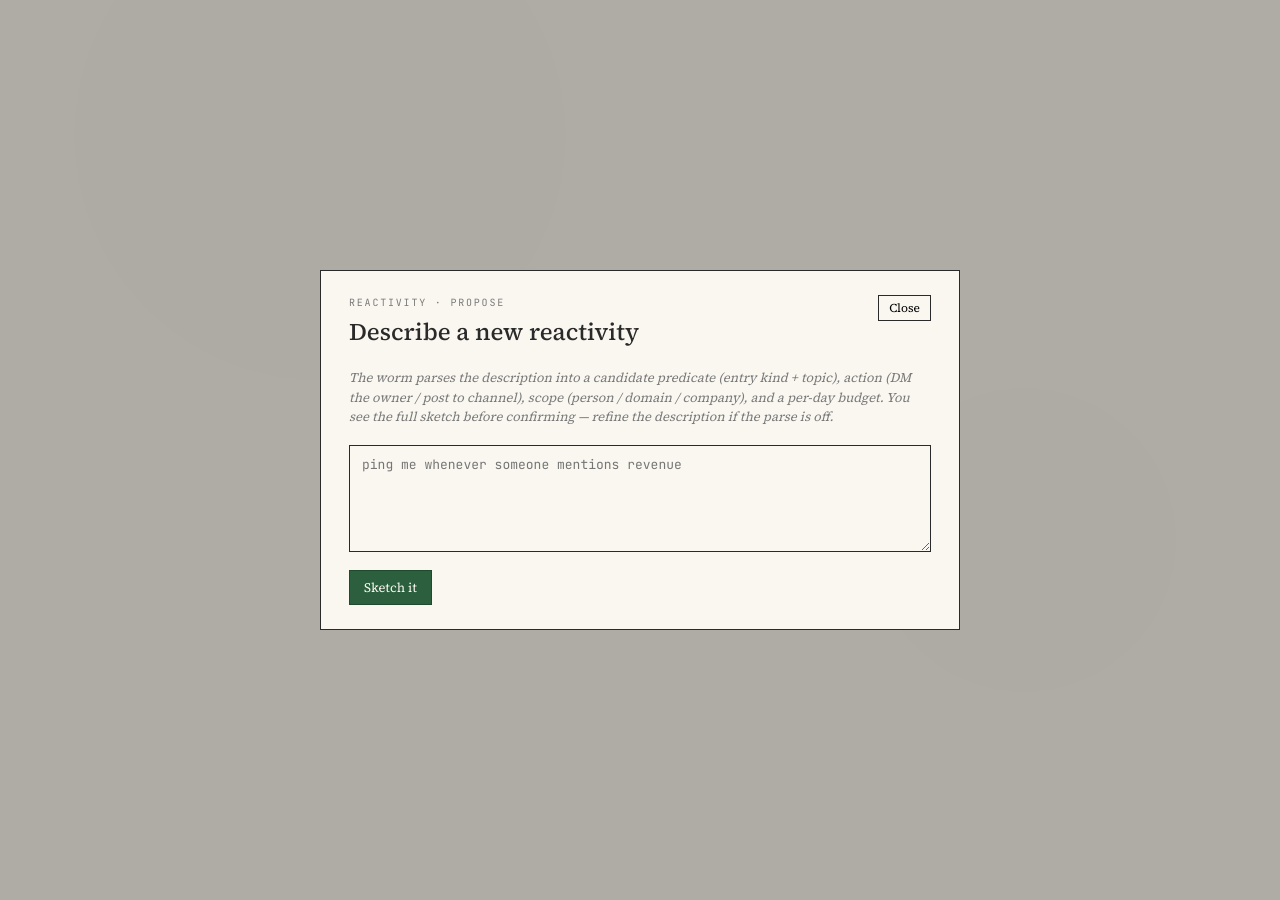
it: ProposeReactivityModal › low-confidence sketches surface a warning banner
The image size is (1280, 900).
Type "do something" into the text box with test id "propose-reactivity-description". click: (640, 498)
box: [349, 445, 931, 552]
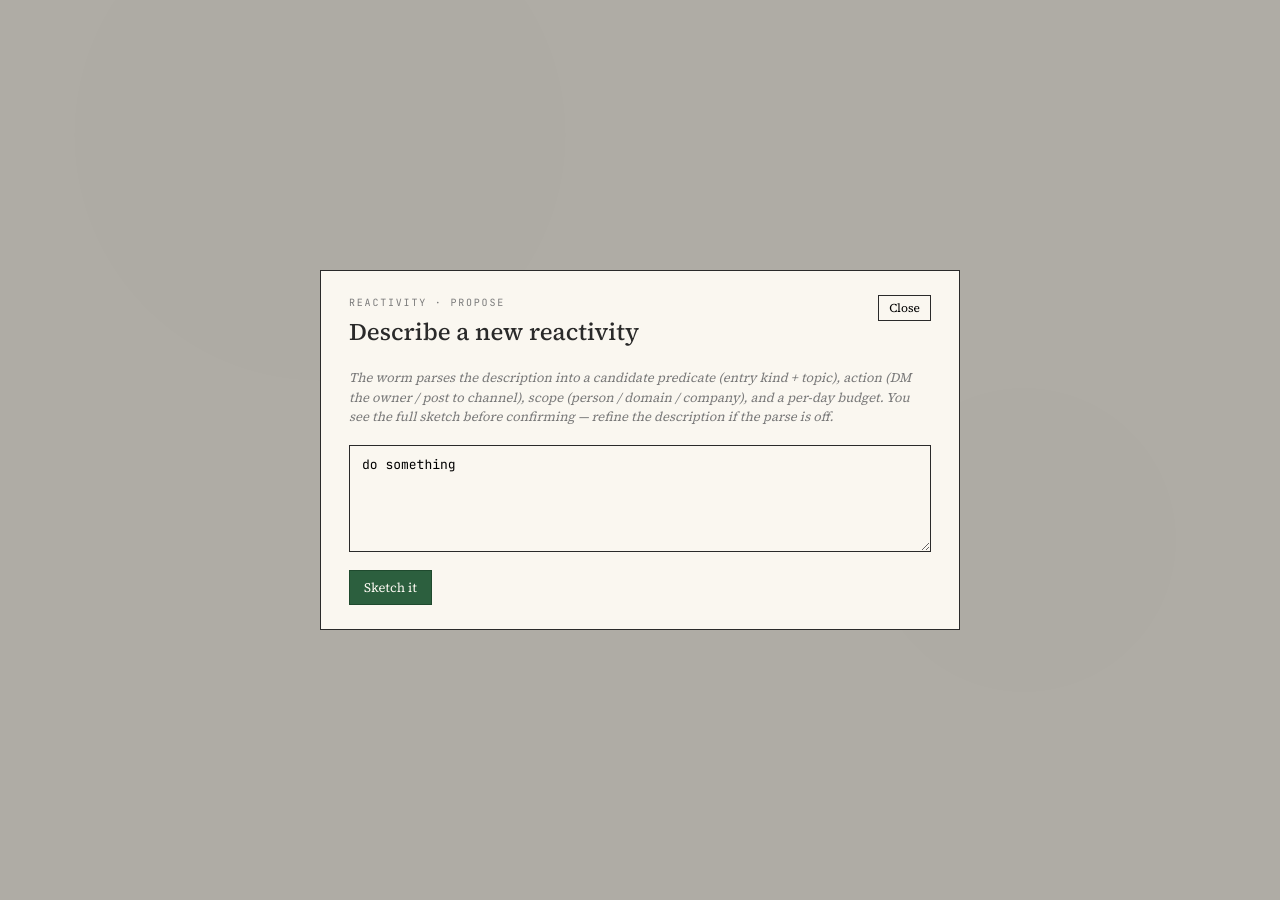
Click the button with test id "propose-reactivity-preview". click: (390, 587)
box: [349, 570, 432, 605]
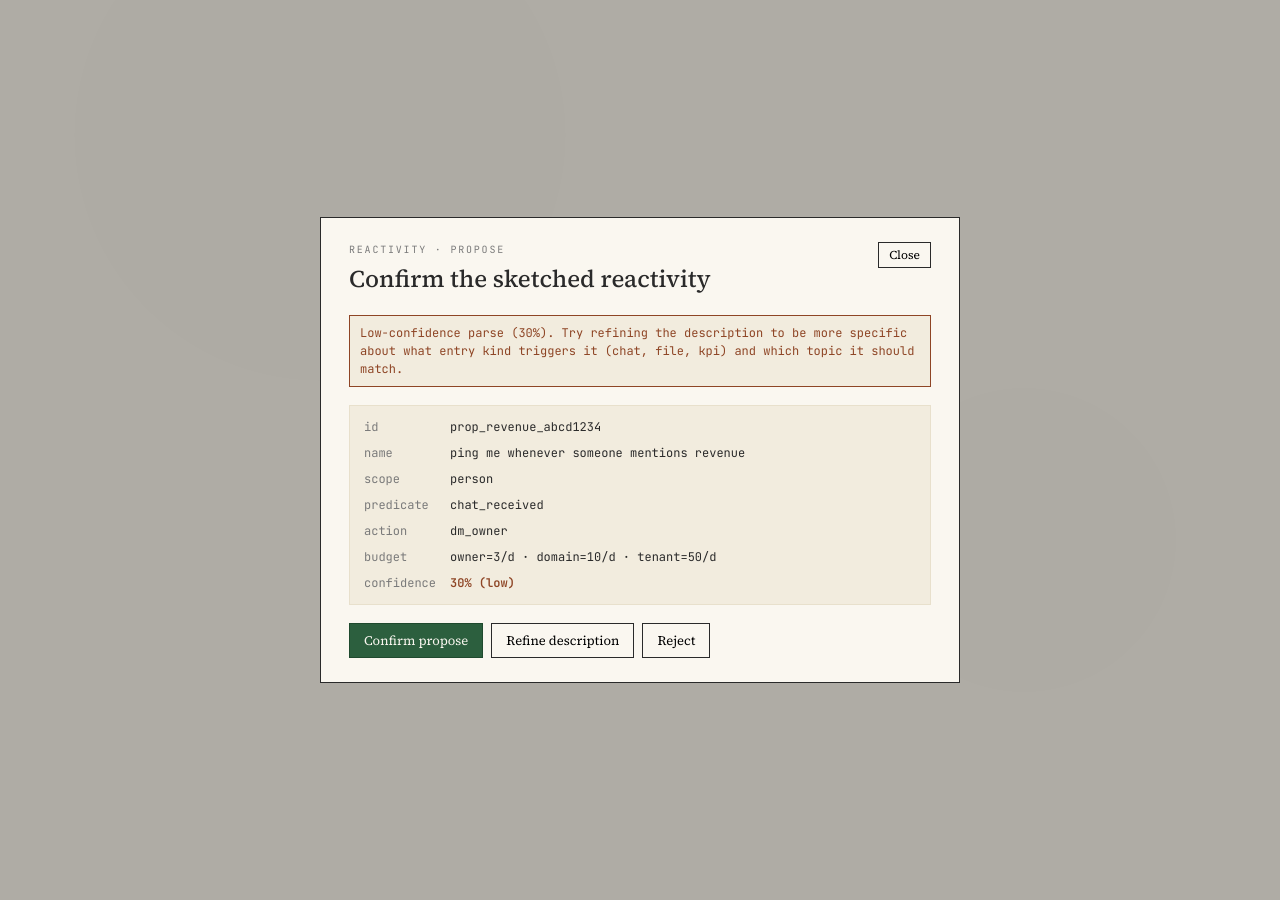
expect the message with test id "propose-reactivity-low-confidence" is shown: met, box [349, 315, 931, 387]
